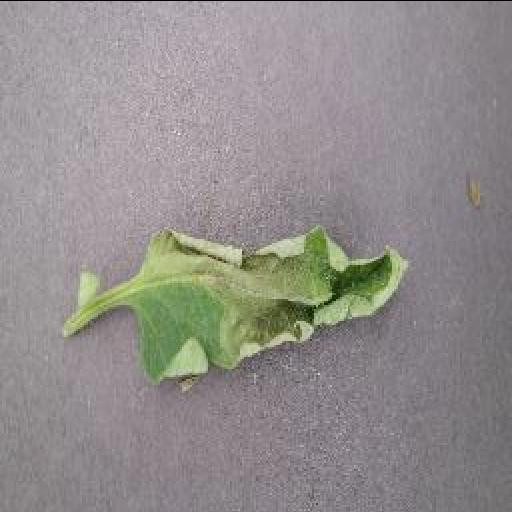disease_tomato: (132, 218, 412, 392)
